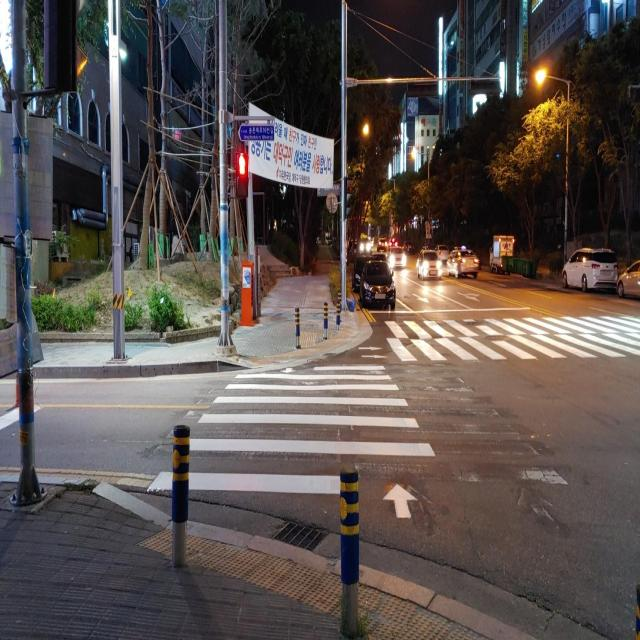빨간불: (236, 154, 250, 196)
횡단보도: (145, 361, 437, 520), (377, 314, 640, 363)
